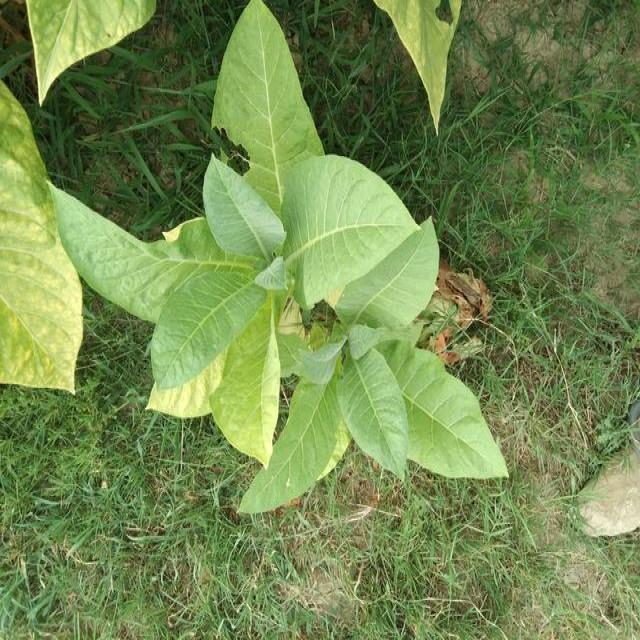crop: (135, 1, 516, 520)
